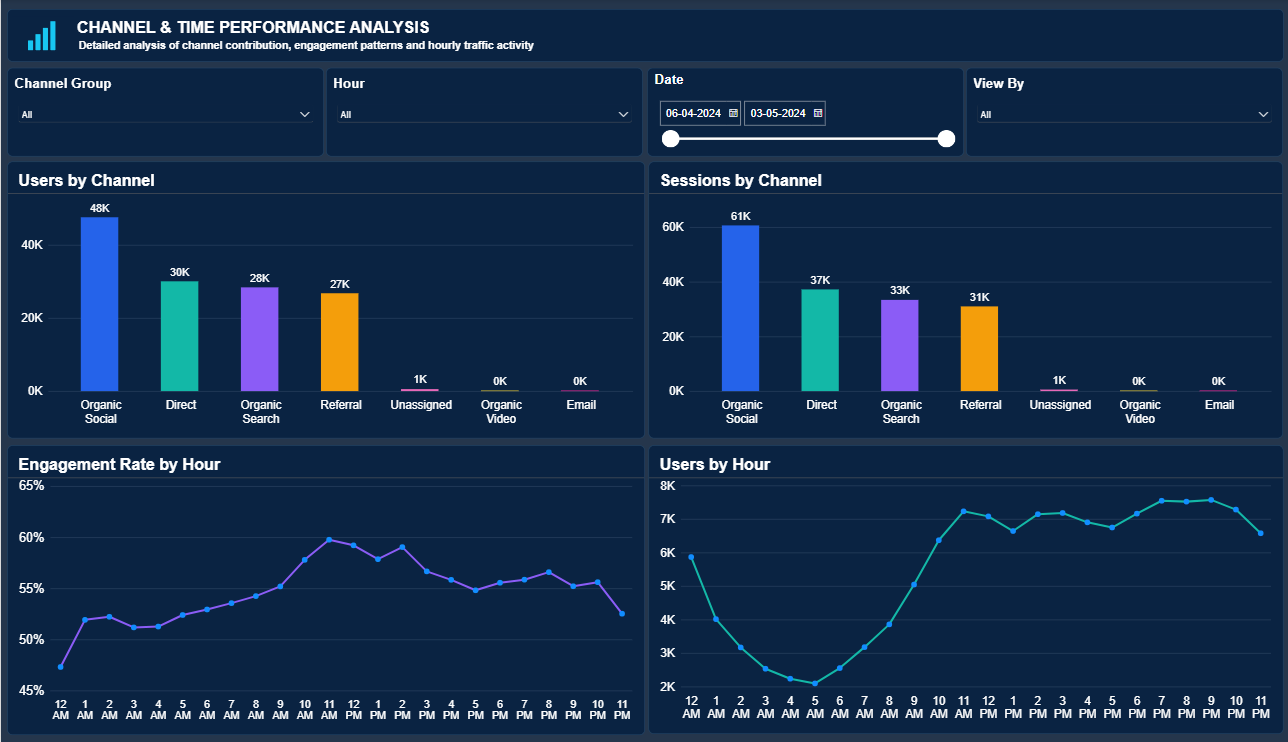

The page's visual inventory and layout, read from the dashboard file:
{"tool":"powerbi","page":{"name":"Channel & Time Analysis","canvas":[1920,1110],"ordinal":1},"visuals":[{"type":"textbox","box":[9.3,14.9,1899,78.1],"z":0},{"type":"columnChart","title":"Users by Channel","fields":{"Category":["Website-traffic-data-cleaned.Channel Group"],"Y":["Website-traffic-data-cleaned.Total Users"]},"box":[9.3,241.4,948.6,412],"z":1000},{"type":"clusteredColumnChart","title":"Sessions by Channel","fields":{"Category":["Website-traffic-data-cleaned.Channel Group"],"Y":["Website-traffic-data-cleaned.Total Session"]},"box":[963.4,241.9,944,412],"z":2000},{"type":"lineChart","title":"Engagement Rate by Hour","fields":{"Y":["Website-traffic-data-cleaned.Overall Engagement Rate"],"Category":["Website-traffic-data-cleaned.Hour Label"]},"box":[9.3,664,948.6,431.5],"z":3000},{"type":"lineChart","fields":{"Category":["Website-traffic-data-cleaned.Hour Label"],"Y":["Metric Selector.Selected Metric"]},"box":[963.4,664,944.8,429.6],"z":4000},{"type":"slicer","title":"View By","fields":{"Values":["Metric Selector.Metric"]},"box":[1436.8,102.3,471.5,132.1],"z":5000},{"type":"image","box":[16.7,26,91.1,55.8],"z":6000},{"type":"slicer","title":"Date","fields":{"Values":["Website-traffic-data-cleaned.Date"]},"box":[961.6,102.3,471.5,132.1],"z":7000},{"type":"slicer","title":"Channel Group","fields":{"Values":["Website-traffic-data-cleaned.Channel Group"]},"box":[9.3,102.3,471.5,132.1],"z":8000},{"type":"slicer","title":"Hour","fields":{"Values":["Website-traffic-data-cleaned.Hour"]},"box":[484.5,102.3,471.5,132.1],"z":9000}]}

Visuals, with their boxes in screenshot pixels (x1, y1, x2, y2), scaled from the page's 1920x1110 canvas onto the 1288x742 screenshot:
textbox: x1=6, y1=10, x2=1280, y2=62
"Users by Channel" columnChart: x1=6, y1=161, x2=643, y2=437
"Sessions by Channel" clusteredColumnChart: x1=646, y1=162, x2=1280, y2=437
"Engagement Rate by Hour" lineChart: x1=6, y1=444, x2=643, y2=732
lineChart - Website-traffic-data-cleaned.Hour Label x Metric Selector.Selected Metric: x1=646, y1=444, x2=1280, y2=731
"View By" slicer: x1=964, y1=68, x2=1280, y2=157
image: x1=11, y1=17, x2=72, y2=55
"Date" slicer: x1=645, y1=68, x2=961, y2=157
"Channel Group" slicer: x1=6, y1=68, x2=323, y2=157
"Hour" slicer: x1=325, y1=68, x2=641, y2=157
